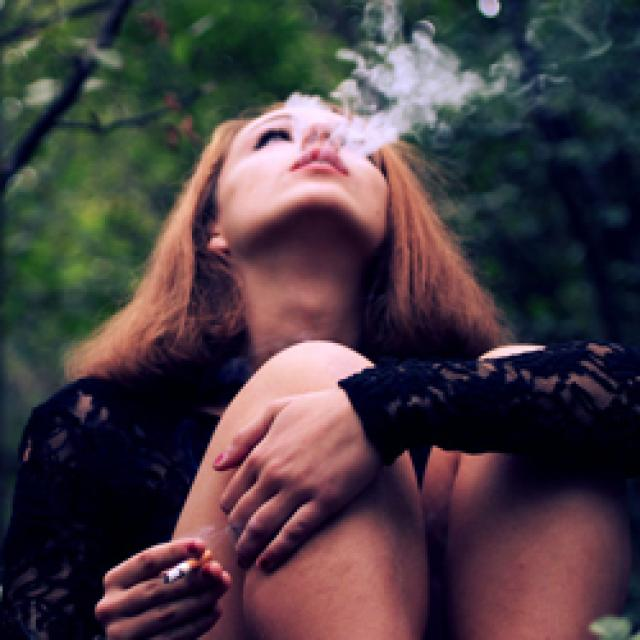Smooking: (152, 552, 223, 594)
